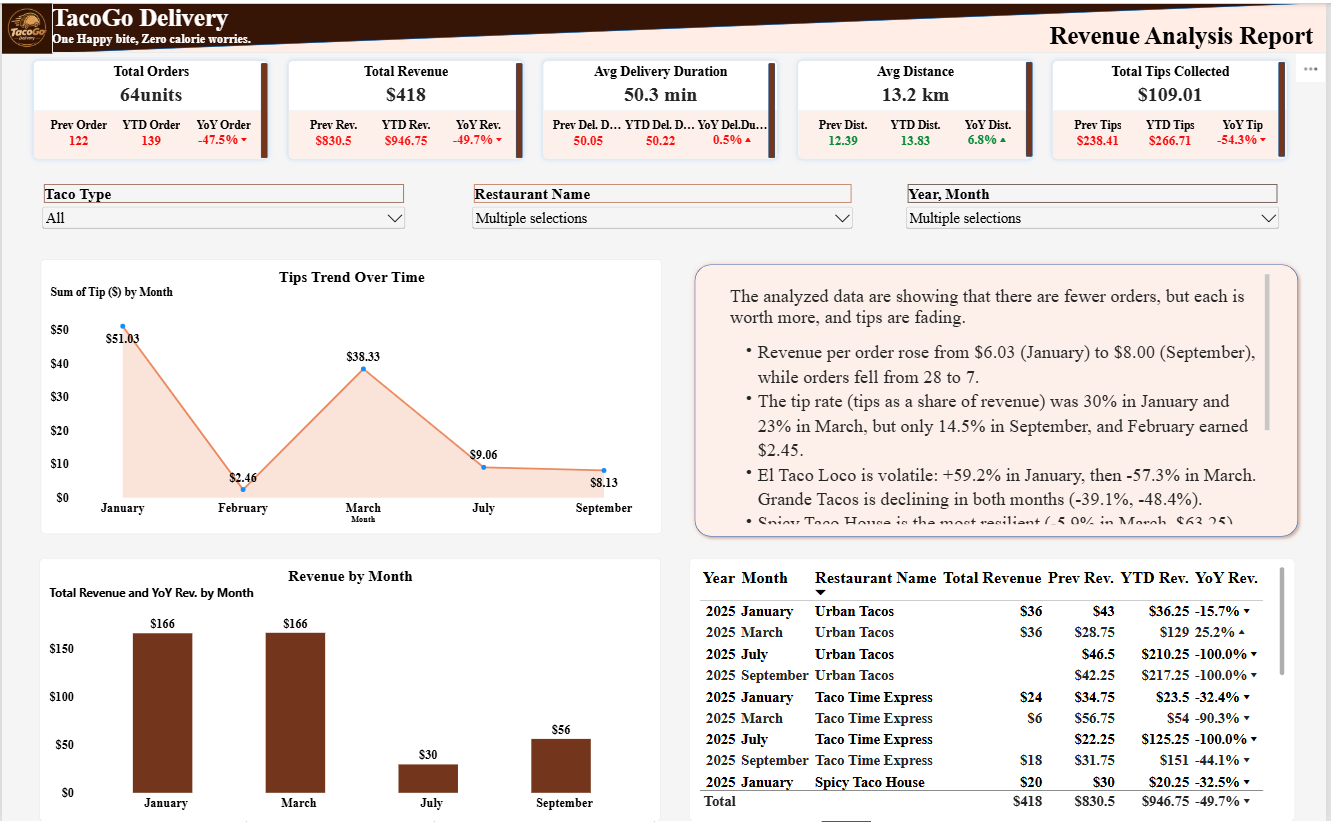

What the dashboard file says about the page in this screenshot:
{"tool":"powerbi","page":{"name":"Revenue Analysis","canvas":[2298,1420],"ordinal":1},"visuals":[{"type":"lineChart","title":"Tips Trend Over Time","fields":{"Category":["Table 1 (FactOrders).Order Date.Variation.Date Hierarchy.Month"],"Y":["Sum(Table 1 (FactOrders).Tip ($))"]},"box":[67.2,444.6,1077.8,477.1],"z":0},{"type":"cardVisual","fields":{"Data":["Table 1 (FactOrders).Total Orders","Table 1 (FactOrders).Total Revenue","Table 1 (FactOrders).Avg Delivery Duration","Table 1 (FactOrders).Avg Distance","Table 1 (FactOrders).Total Tips Collected"]},"box":[43.4,88.9,2199,193],"z":1000},{"type":"clusteredColumnChart","title":"Revenue by Month","fields":{"Category":["Dim_Date.Date.Variation.Date Hierarchy.Month"],"Y":["Table 1 (FactOrders).Total Revenue"]},"box":[65.1,962.9,1077.8,457.6],"z":2000},{"type":"image","box":[0,0,87.4,89.1],"z":3000},{"type":"shape","box":[87.2,0,2210.8,87.2],"z":4000},{"type":"textbox","box":[1247.6,32.2,1027.7,113.8],"z":5000},{"type":"shape","box":[87.2,0,2210.8,87.2],"z":6000},{"type":"textbox","box":[87.2,0,585.9,89.1],"z":7000},{"type":"tableEx","fields":{"Values":["Dim_Date.Date.Variation.Date Hierarchy.Year","Dim_Date.Date.Variation.Date Hierarchy.Month","Table 2 (DimRestaurant).Restaurant Name","Table 1 (FactOrders).Total Revenue","Dim_Date.Prev Profit","Dim_Date.Revenue YTD","Dim_Date.YoY Revenue Change"]},"box":[1192.7,962.9,1049.6,457.6],"z":8000},{"type":"shape","box":[1192.7,444.6,1064.8,490.1],"z":9000},{"type":"slicer","fields":{"Values":["Table 3 (DimTaco).Taco Type"]},"box":[65.1,314.4,639.7,99.8],"z":10000},{"type":"slicer","fields":{"Values":["Table 2 (DimRestaurant).Restaurant Name"]},"box":[811.1,314.4,670.1,99.8],"z":11000},{"type":"textbox","box":[1262.1,470.6,936.8,433.7],"z":12000},{"type":"slicer","fields":{"Values":["Dim_Date.Date.Variation.Date Hierarchy.Year","Dim_Date.Date.Variation.Date Hierarchy.Month"]},"box":[1563.6,314.4,657.1,99.8],"z":13000},{"type":"shape","box":[448.9,104.1,12.1,165.1],"z":14000},{"type":"shape","box":[891.3,104.1,12.1,165.1],"z":15000},{"type":"shape","box":[1329.4,104.1,12.1,165.1],"z":16000},{"type":"shape","box":[1776.1,101.9,12.1,165.1],"z":17000},{"type":"shape","box":[2213.5,102.3,12.1,165.1],"z":18000}]}

Visuals, with their boxes in screenshot pixels (x1, y1, x2, y2), scaled from the page's 2298x1420 canvas onto the 1331x822 screenshot:
"Tips Trend Over Time" lineChart: crop(39, 257, 663, 534)
cardVisual - Table 1 (FactOrders).Total Orders x Table 1 (FactOrders).Total Revenue: crop(25, 51, 1299, 163)
"Revenue by Month" clusteredColumnChart: crop(38, 557, 662, 821)
image: crop(0, 0, 51, 52)
shape: crop(51, 0, 1330, 50)
textbox: crop(723, 19, 1318, 85)
shape: crop(51, 0, 1330, 50)
textbox: crop(51, 0, 390, 52)
tableEx - Dim_Date.Date.Variation.Date Hierarchy.Year x Dim_Date.Date.Variation.Date Hierarchy.Month: crop(691, 557, 1299, 821)
shape: crop(691, 257, 1308, 541)
slicer - Table 3 (DimTaco).Taco Type: crop(38, 182, 408, 240)
slicer - Table 2 (DimRestaurant).Restaurant Name: crop(470, 182, 858, 240)
textbox: crop(731, 272, 1274, 523)
slicer - Dim_Date.Date.Variation.Date Hierarchy.Year x Dim_Date.Date.Variation.Date Hierarchy.Month: crop(906, 182, 1286, 240)
shape: crop(260, 60, 267, 156)
shape: crop(516, 60, 523, 156)
shape: crop(770, 60, 777, 156)
shape: crop(1029, 59, 1036, 155)
shape: crop(1282, 59, 1289, 155)
